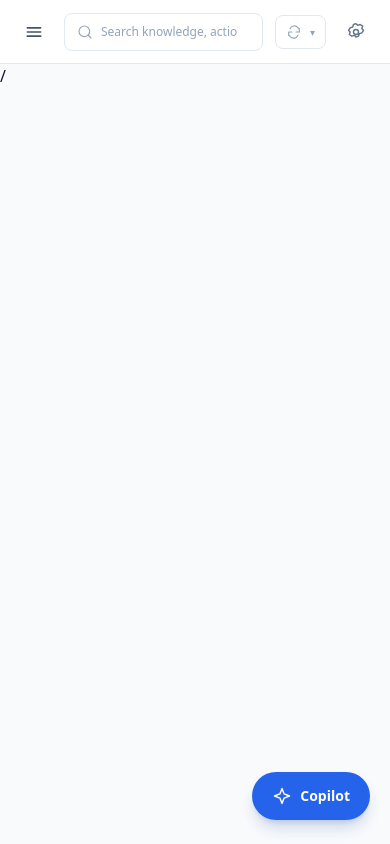
Test: consolidated workspace shell › shows exactly two purpose links in the mobile drawer
Click the button named "Open navigation" at point(34, 32), box [16,14,52,50]
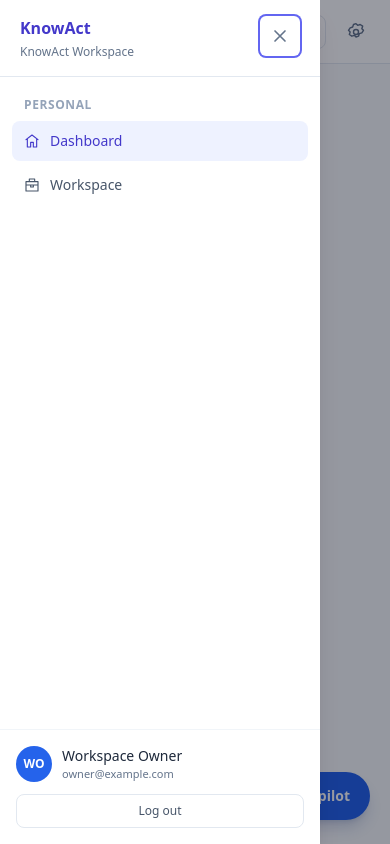
Expected: the links read "Dashboard", "Workspace", in this order, [12,121,308,161]; [24,175,122,194]
